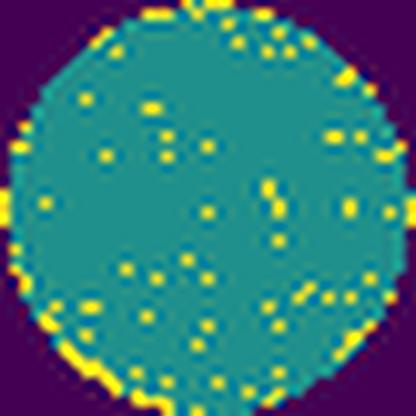Edge-Loc: (61, 343, 123, 395), (130, 388, 179, 416)
